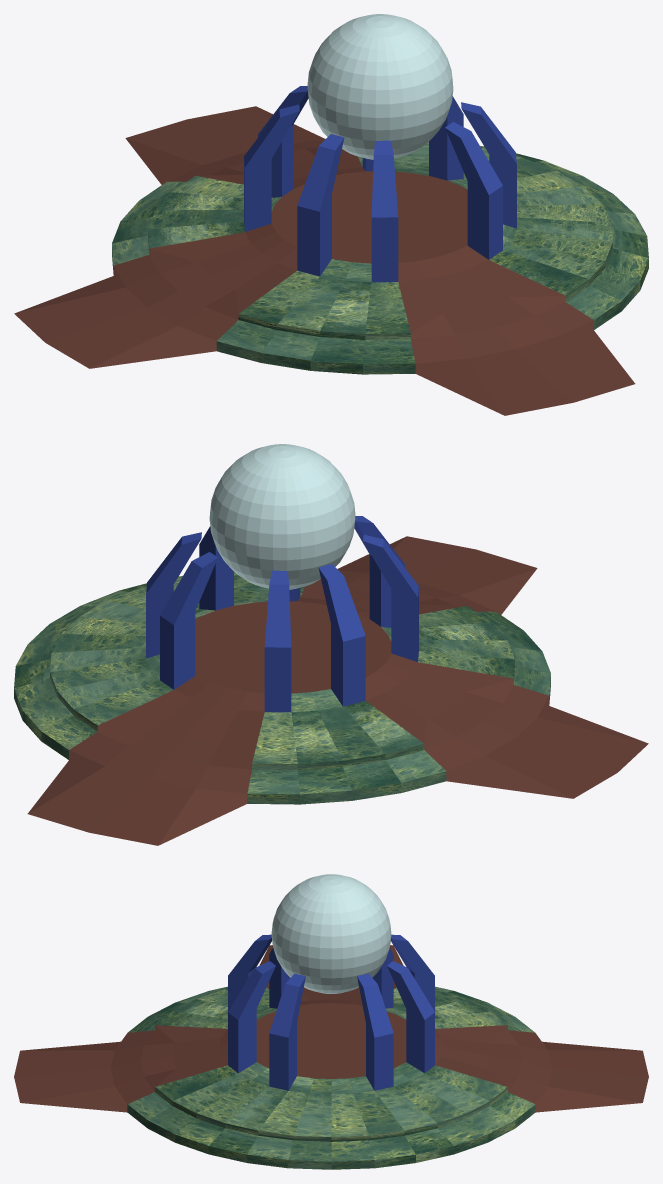
The picture shows the model from 3 angles, top to bottom: view 1: azimuth 30°, elevation 25°; view 2: azimuth 150°, elevation 25°; view 3: azimuth 270°, elevation 25°; orthographic projection. The views are drawn at different scales.
Visible parts, largest first — view 1: Cylinder; view 2: Cylinder; view 3: Cylinder.
Boxes of the visible parts, bbox=[...] form: Cylinder: bbox=[14, 14, 648, 415]; Cylinder: bbox=[14, 444, 648, 845]; Cylinder: bbox=[14, 874, 648, 1169].
Bounding box in the file's own units: 10.14 × 4.1 × 11.96.
4 materials, 1 textured.
